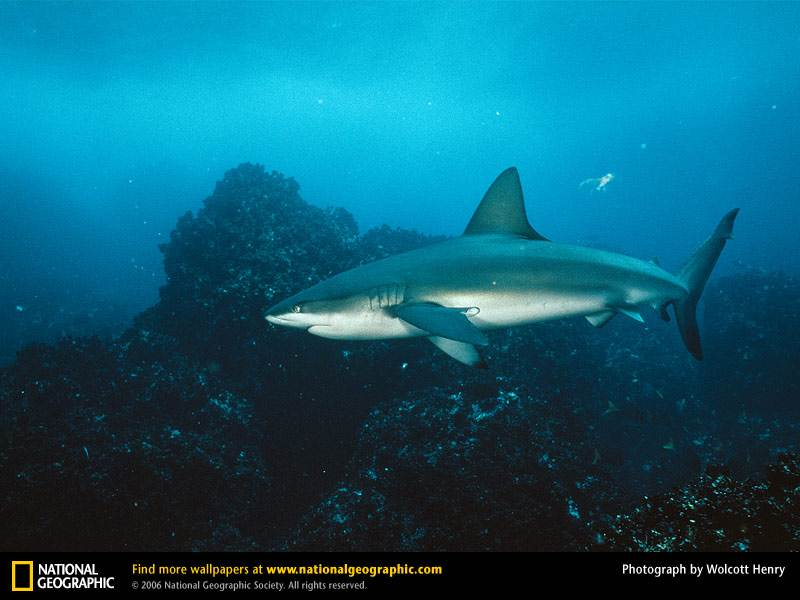shark: (264, 169, 740, 365)
